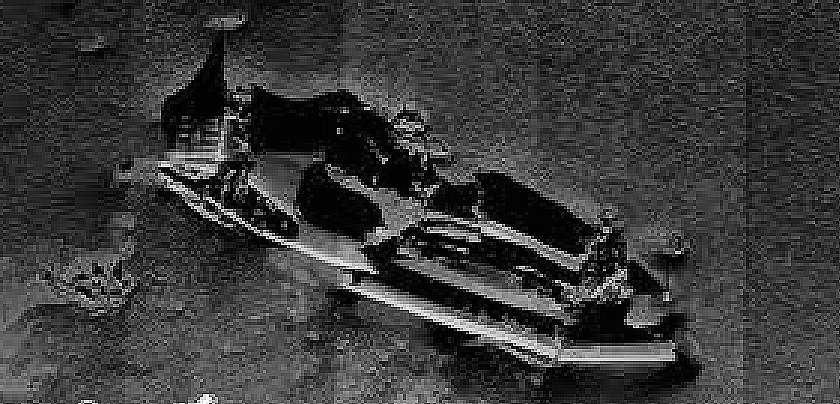ship: (127, 77, 691, 379)
